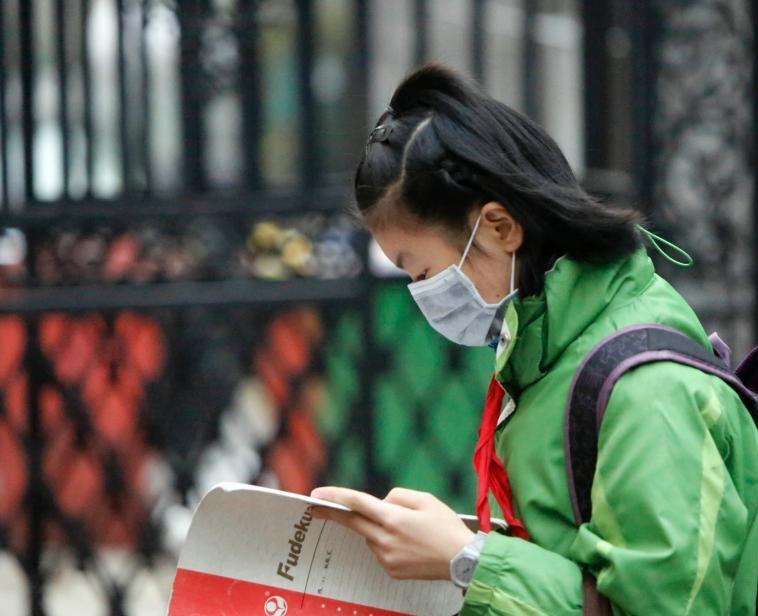OK: (391, 226, 516, 347)
